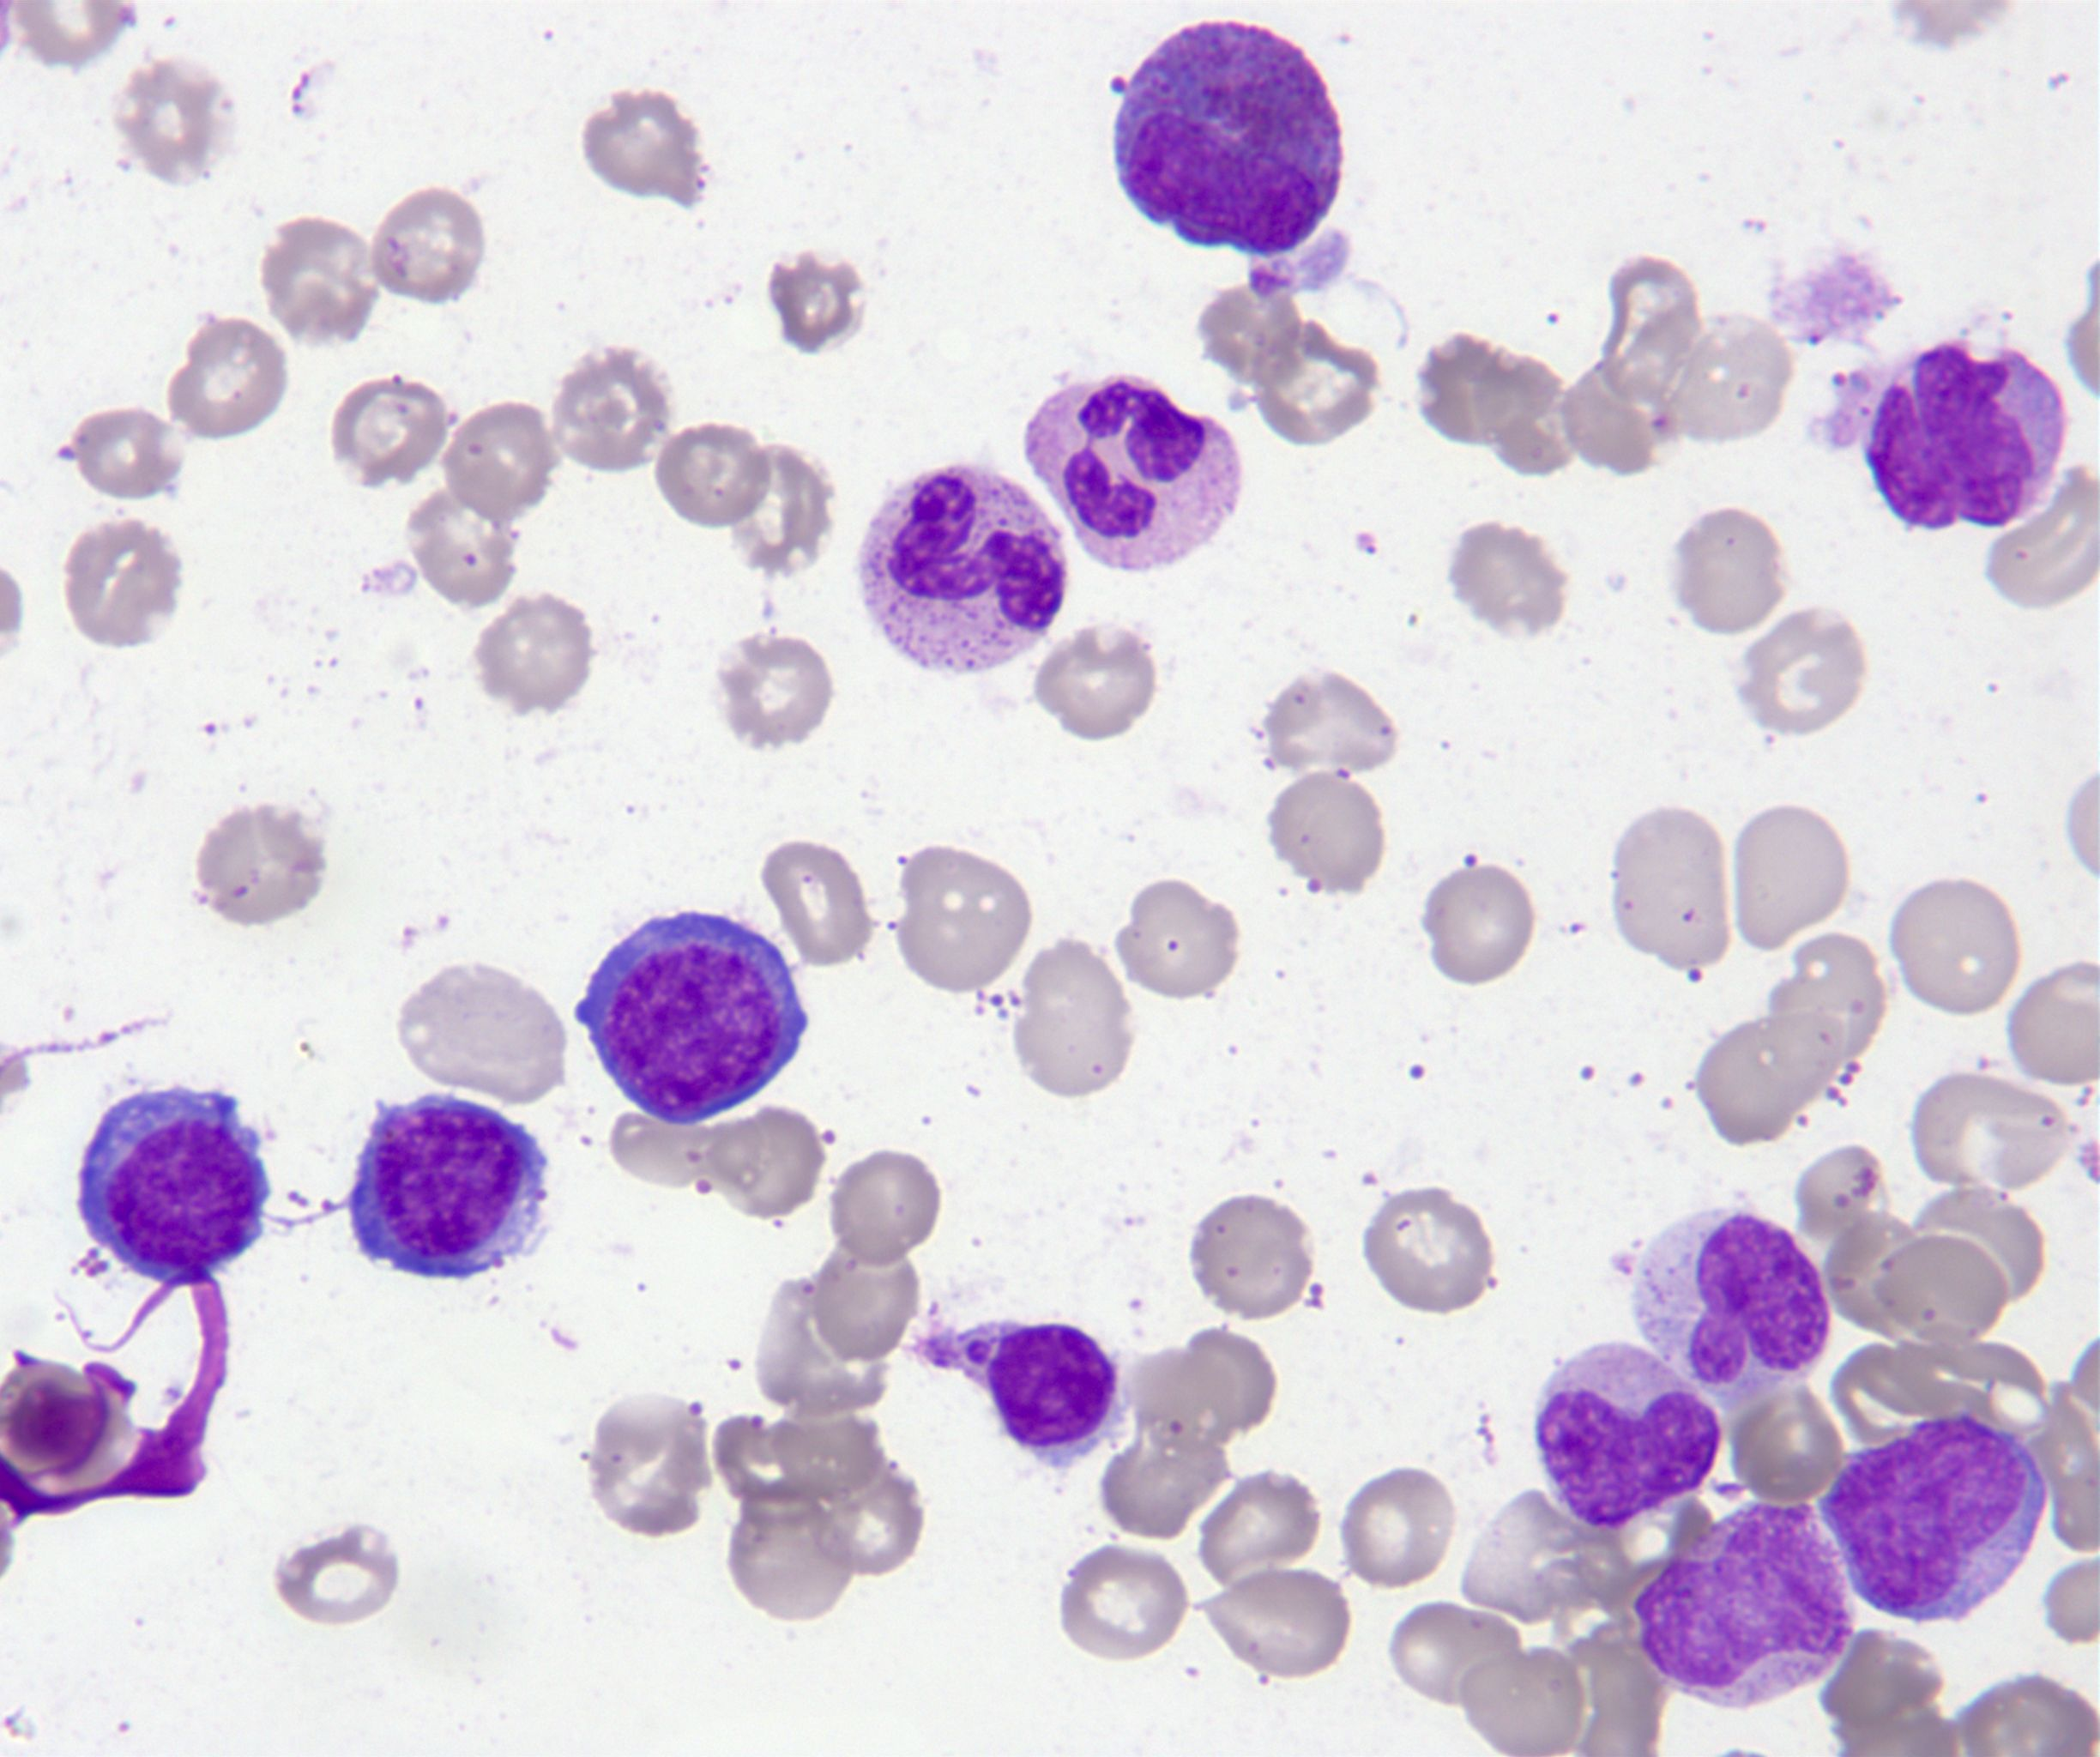1: (1805, 1410, 2051, 1628)
22: (567, 899, 813, 1132), (68, 1077, 276, 1295), (342, 1089, 555, 1284)
3: (1627, 1497, 1863, 1720), (1528, 1340, 1728, 1539)
32: (970, 1314, 1125, 1476)
4: (1620, 1204, 1837, 1410)
42: (1859, 330, 2074, 544)
5: (855, 457, 1071, 679)
6: (1020, 370, 1251, 579)
E2: (1102, 17, 1352, 260)
